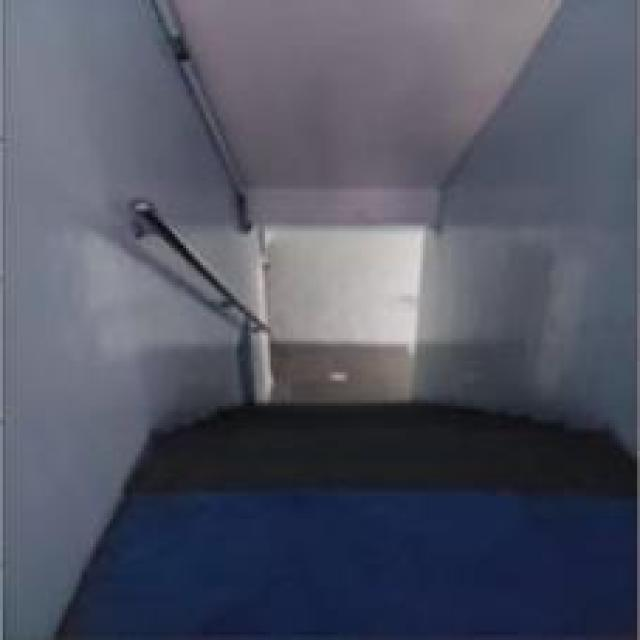downstair: (241, 368, 531, 500)
